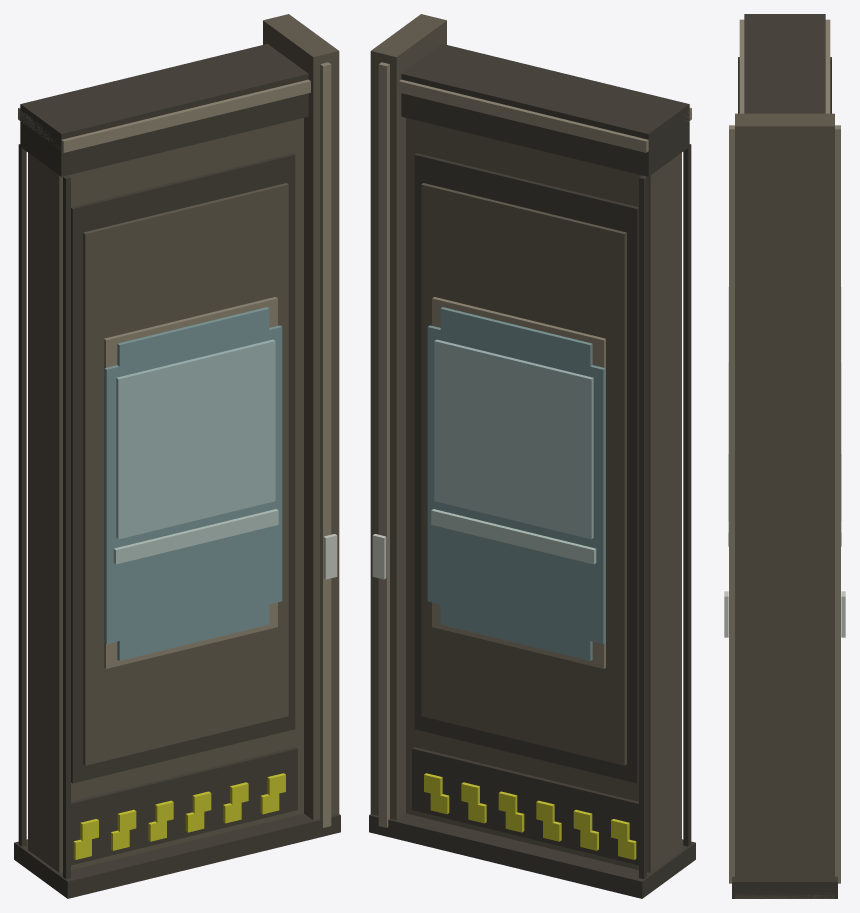
The model's file is CMU3DPairedGovforGlass.glb.
3 views of the same model, side by side, from view 1: azimuth 30°, elevation 25°; view 2: azimuth 150°, elevation 25°; view 3: azimuth 270°, elevation 25° (orthographic).
Visible parts, largest first — view 1: inner face panel, single closed door leaf, pale upper reflection, chamfered window center, outer door jamb, leaf recessed face, continuous top track, meeting edge seal (×2), lower hazard band, outer jamb highlight, threshold, top track lip (+5 smaller); view 2: inner face panel back, single closed door leaf, pale upper reflection back, chamfered window center back, outer door jamb, leaf recessed face back, continuous top track, meeting edge seal (×2), lower hazard band back, outer jamb highlight, threshold, chamfered window upper shoulder back (+5 smaller); view 3: outer door jamb, outer jamb highlight (×2), continuous top track, threshold, top track lip.
Part boxes in pixels (<box>): inner face panel: <box>83,183,288,765</box>; single closed door leaf: <box>28,118,303,872</box>; pale upper reflection: <box>116,339,275,539</box>; chamfered window center: <box>104,325,282,643</box>; outer door jamb: <box>263,14,339,820</box>; leaf recessed face: <box>71,153,295,783</box>; continuous top track: <box>20,44,308,176</box>; meeting edge seal (×2): <box>18,144,70,878</box>; lower hazard band: <box>71,747,297,865</box>; outer jamb highlight: <box>320,62,331,827</box>; threshold: <box>14,813,340,898</box>; top track lip: <box>18,79,310,152</box>; inner face panel back: <box>421,183,626,765</box>; single closed door leaf: <box>406,118,681,872</box>; pale upper reflection back: <box>434,339,593,539</box>; chamfered window center back: <box>427,325,605,643</box>; outer door jamb: <box>370,14,446,820</box>; leaf recessed face back: <box>414,153,638,783</box>; continuous top track: <box>401,44,689,176</box>; meeting edge seal (×2): <box>639,144,691,878</box>; lower hazard band back: <box>412,747,638,865</box>; outer jamb highlight: <box>378,62,389,827</box>; threshold: <box>369,813,695,898</box>; chamfered window upper shoulder back: <box>440,307,592,366</box>; outer door jamb: <box>735,113,834,898</box>; outer jamb highlight (×2): <box>729,125,840,883</box>; continuous top track: <box>744,14,825,113</box>; threshold: <box>732,876,837,898</box>; top track lip: <box>739,19,830,113</box>.
Size of the model in its own units: 1 by 2.73 by 0.388.
